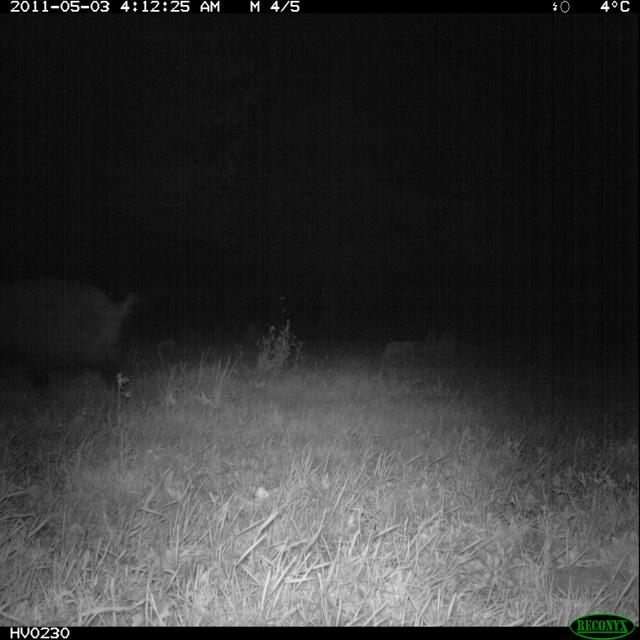boar: (0, 236, 146, 421)
